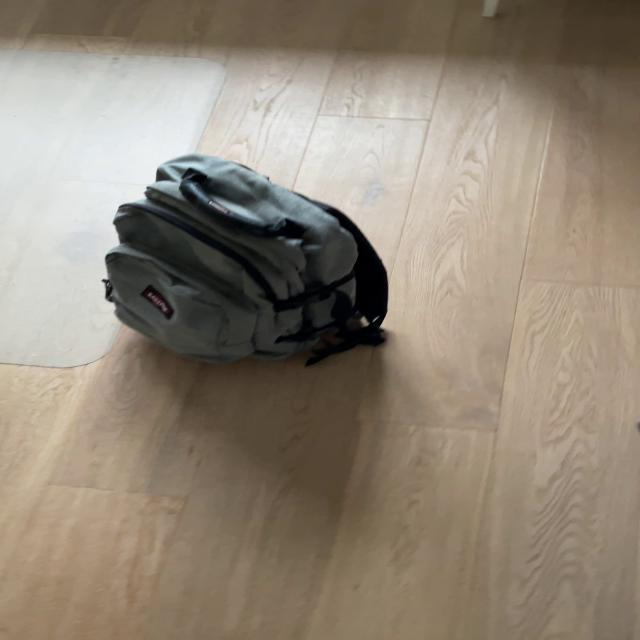backpack: (87, 149, 398, 373)
